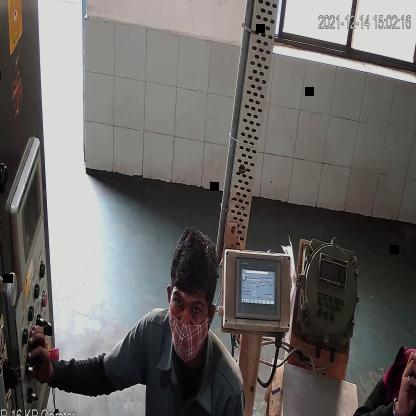no_goggles: (172, 286, 208, 320)
